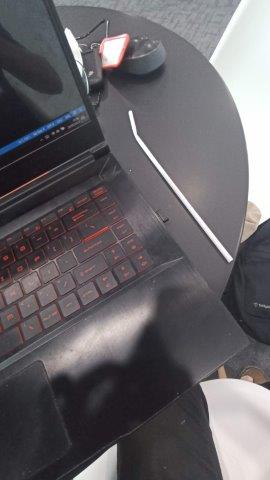sedotan: (128, 111, 233, 263)
